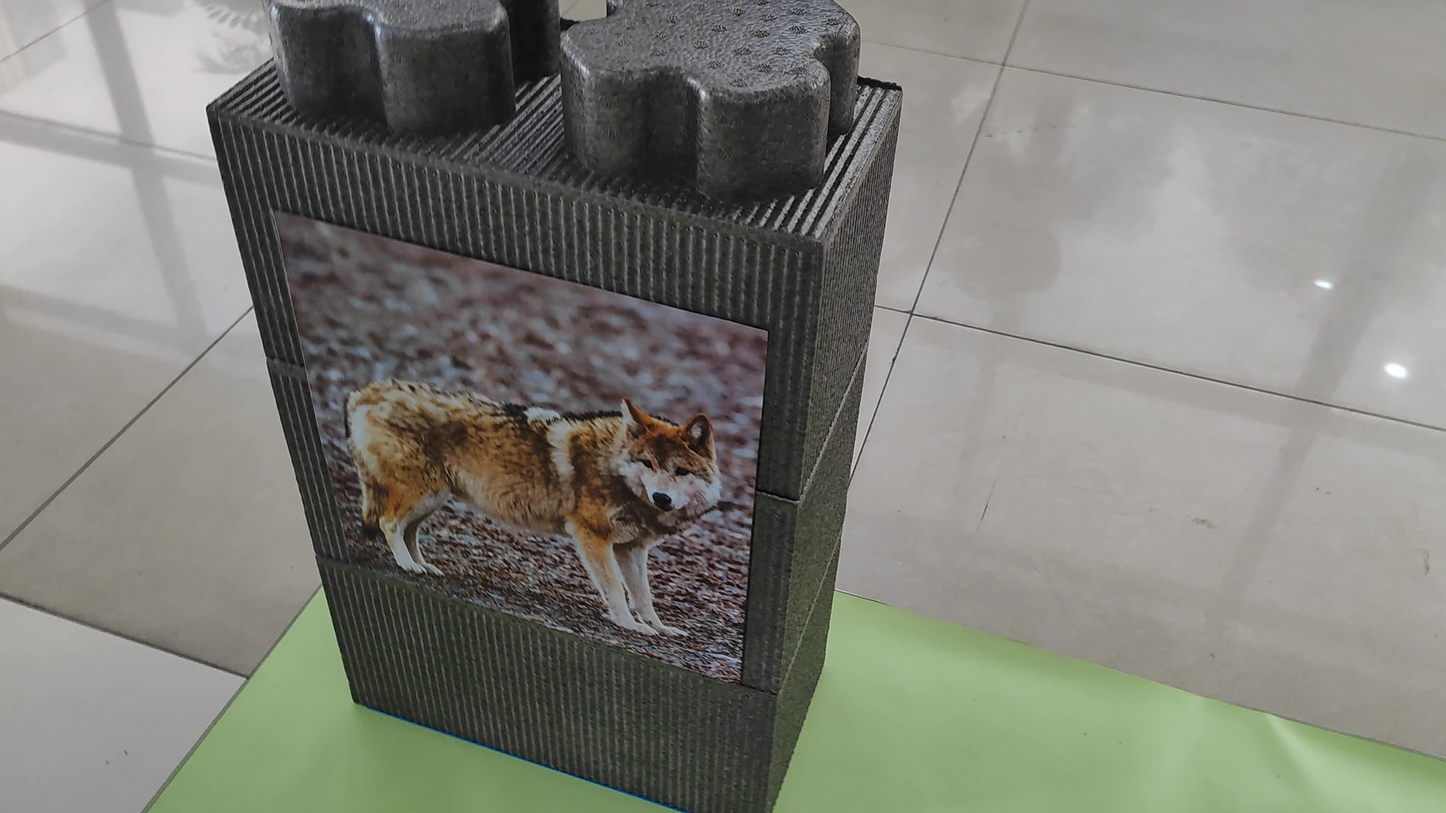wolf: (310, 350, 739, 625)
